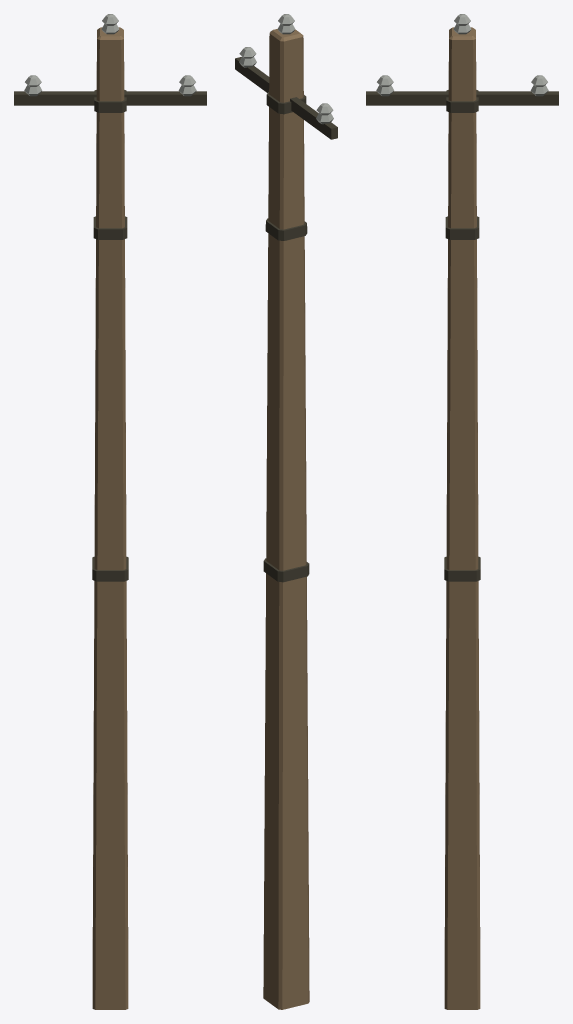
Rendered from SM_Street_PowerPole_01.fbx.
The picture shows the model from 3 angles, left to right: view 1: azimuth 90°, elevation 25°; view 2: azimuth 210°, elevation 25°; view 3: azimuth 270°, elevation 25°; orthographic projection.
Parts seen in each view (by area): view 1: SM_Street_PowerPole_01; view 2: SM_Street_PowerPole_01; view 3: SM_Street_PowerPole_01.
Part boxes in pixels (left/top/right/bottom): SM_Street_PowerPole_01: left=14, top=14, right=206, bottom=1009; SM_Street_PowerPole_01: left=235, top=14, right=337, bottom=1009; SM_Street_PowerPole_01: left=366, top=14, right=558, bottom=1009.
Size of the model in its own units: 0.1899 by 5.65 by 1.
Materials: 1 (1 with a texture image).
